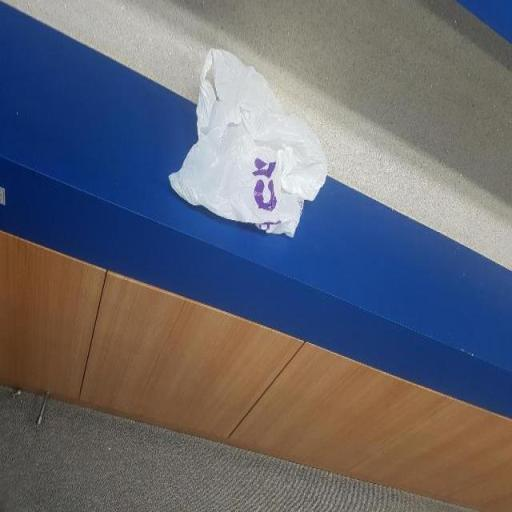plastic-bag: (167, 40, 331, 242)
